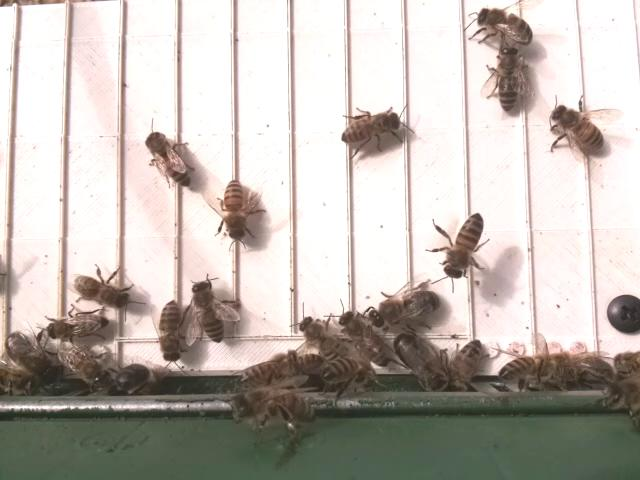Drone: (390, 327, 449, 392), (366, 287, 445, 331)
Worker: (143, 126, 193, 190), (337, 309, 391, 368), (441, 211, 486, 281), (548, 101, 606, 154), (188, 276, 227, 346), (474, 4, 534, 49), (71, 271, 133, 309), (339, 110, 402, 146), (298, 312, 340, 365), (220, 178, 252, 246), (495, 44, 524, 115), (45, 312, 113, 342), (157, 300, 186, 363)
